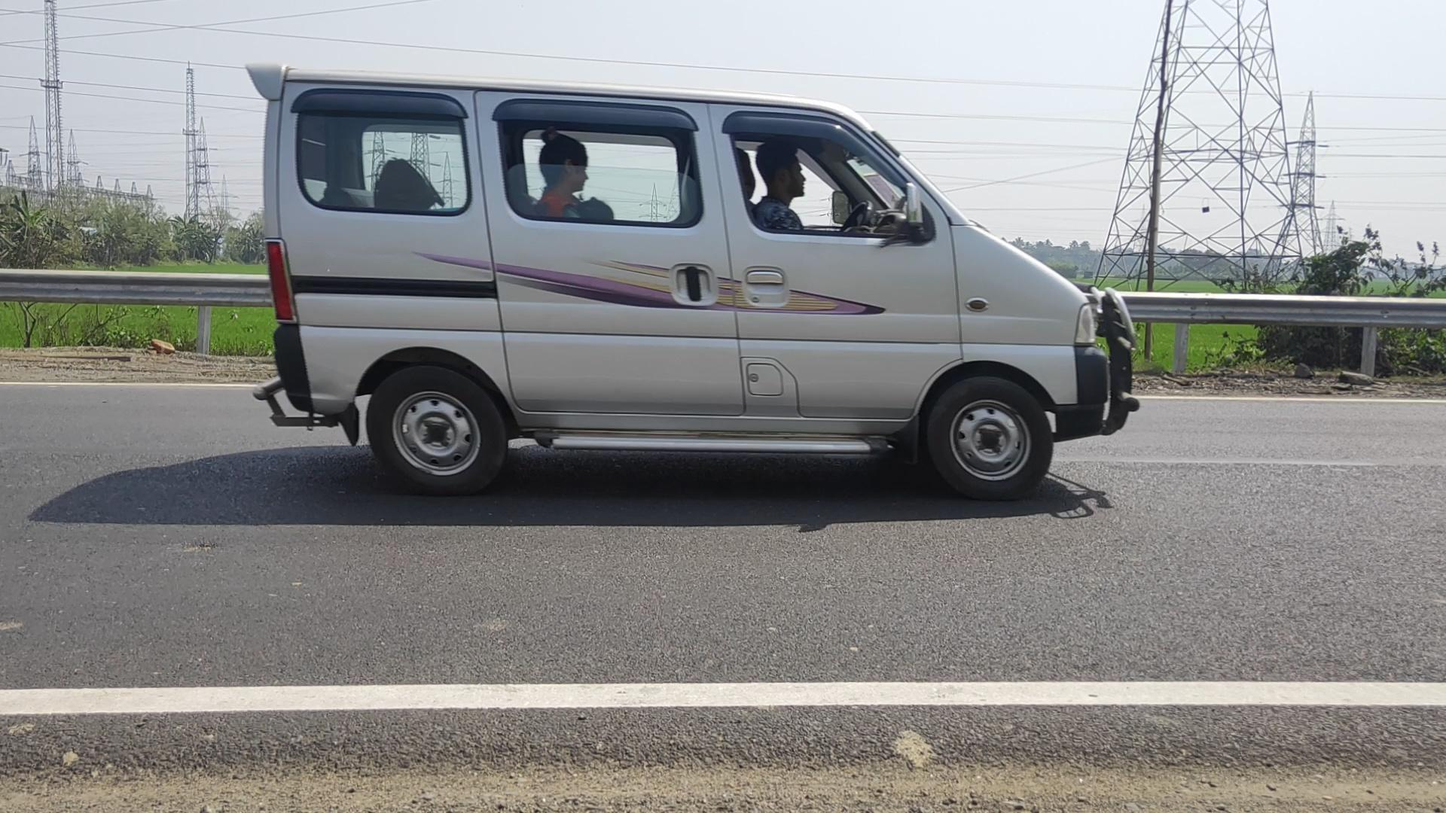van: (246, 55, 1139, 499)
